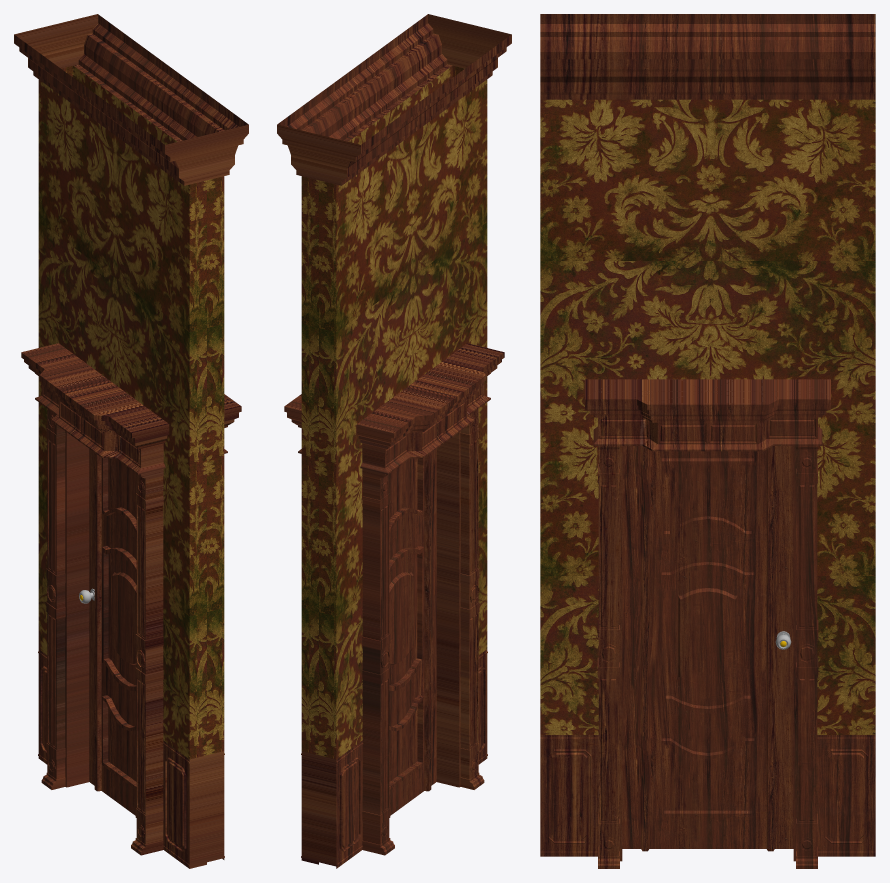
The model's file is Pintu_1_Daun_Interactable.fbx.
3 views of the same model, side by side, from view 1: azimuth 30°, elevation 25°; view 2: azimuth 150°, elevation 25°; view 3: azimuth 270°, elevation 25° (orthographic). The views are drawn at different scales.
Visible parts, largest first — view 1: Dinding 1 Pintu, Pintu Interactable Kiri; view 2: Dinding 1 Pintu, Pintu Interactable Kiri; view 3: Dinding 1 Pintu, Pintu Interactable Kiri.
Boxes of the visible parts, x1,y1,x2,y2 form: Dinding 1 Pintu: [14, 14, 248, 868]; Pintu Interactable Kiri: [79, 449, 136, 815]; Dinding 1 Pintu: [277, 14, 511, 868]; Pintu Interactable Kiri: [389, 449, 436, 815]; Dinding 1 Pintu: [540, 14, 875, 868]; Pintu Interactable Kiri: [622, 446, 793, 851].
Size of the model in its own units: 74.25 by 400 by 150.
4 materials, 2 textured.
